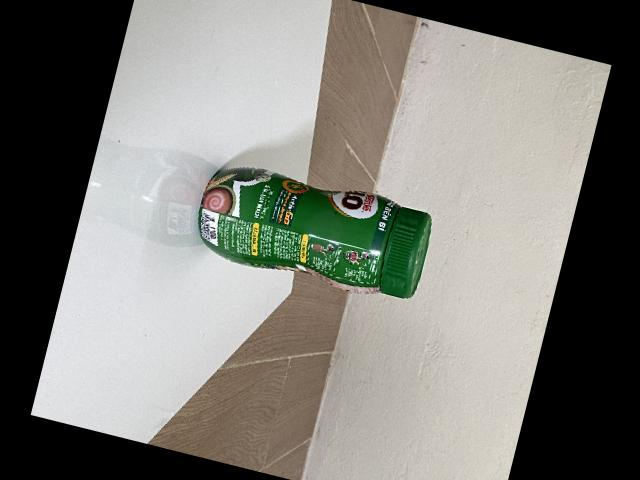milo: (195, 165, 430, 299)
